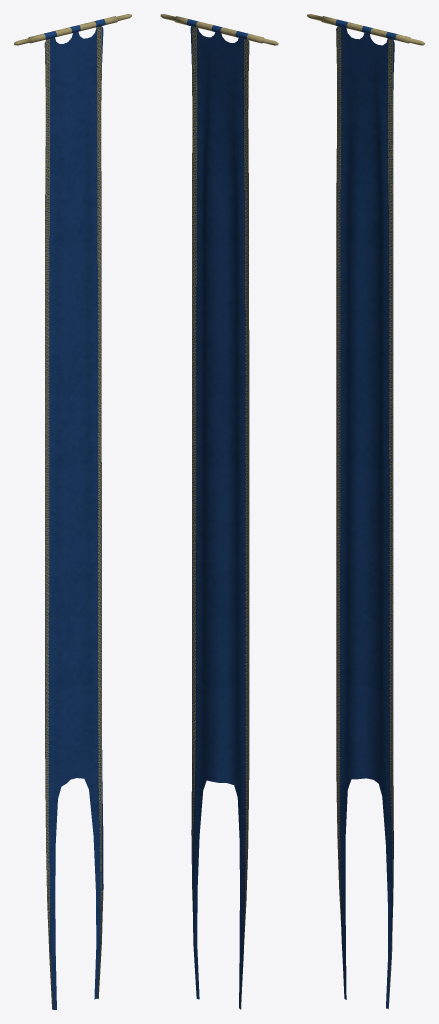
The model's file is SM_fabric_decoration_03.glb.
3 renders of one model, left to right at view 1: azimuth 30°, elevation 25°; view 2: azimuth 150°, elevation 25°; view 3: azimuth 330°, elevation 25°, orthographic.
Parts seen in each view (by area): view 1: SM_fabric_decoration_03; view 2: SM_fabric_decoration_03; view 3: SM_fabric_decoration_03.
Part boxes in pixels (x1,y1,x2,y2): SM_fabric_decoration_03: (14,14,131,1009); SM_fabric_decoration_03: (160,14,278,1009); SM_fabric_decoration_03: (307,14,424,1009).
Size of the model in its own units: 3.9 by 31.23 by 0.2502.
Materials: 2 (2 with a texture image).
